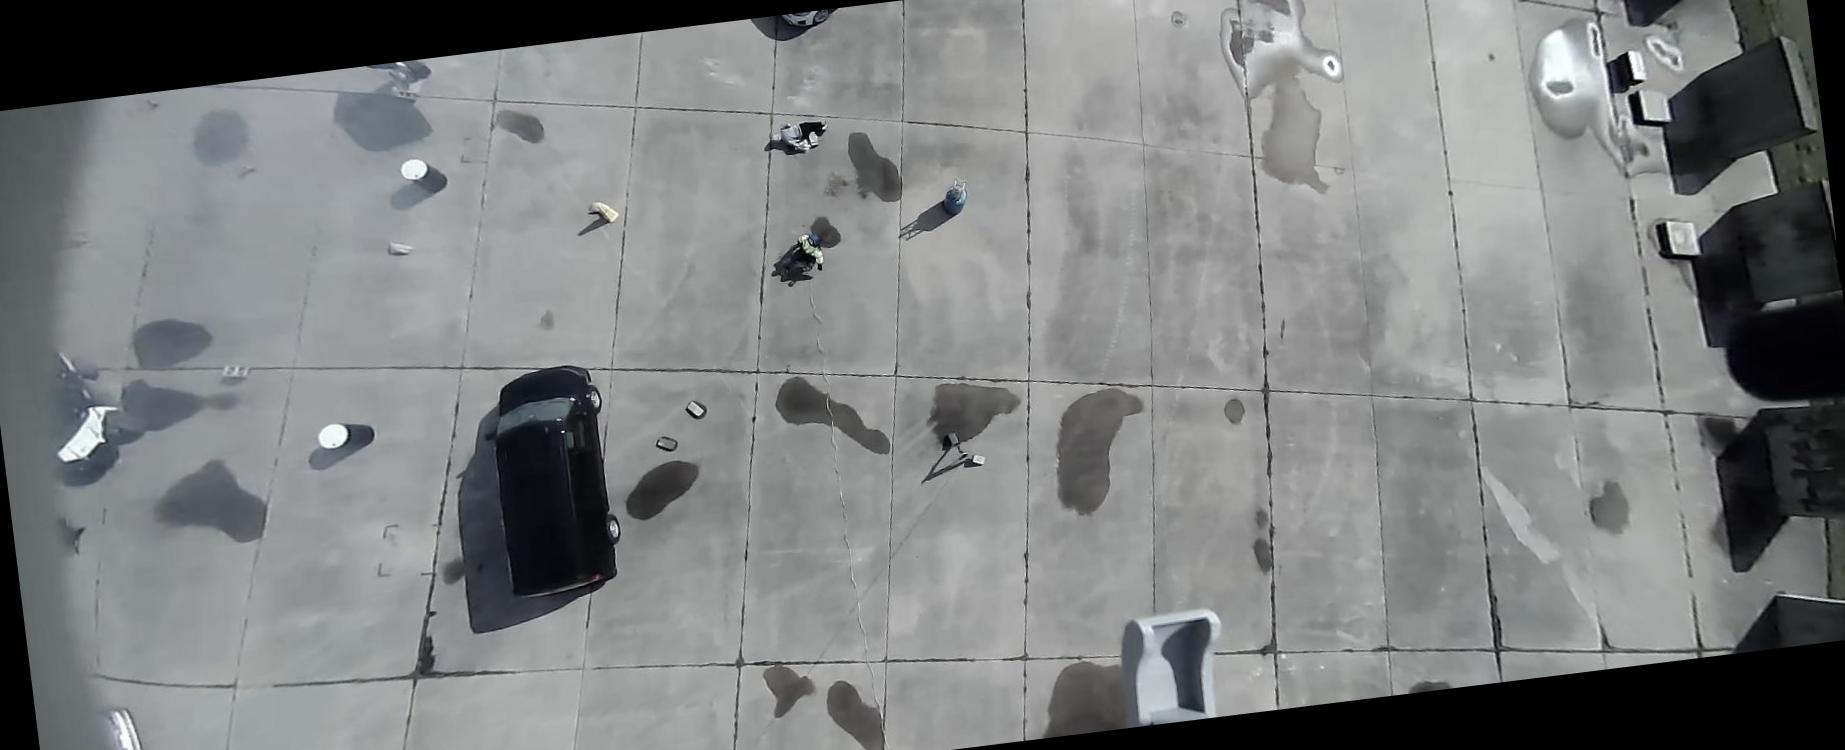vehicle: (473, 359, 627, 602), (41, 339, 128, 474), (93, 703, 145, 749), (781, 9, 831, 29)
